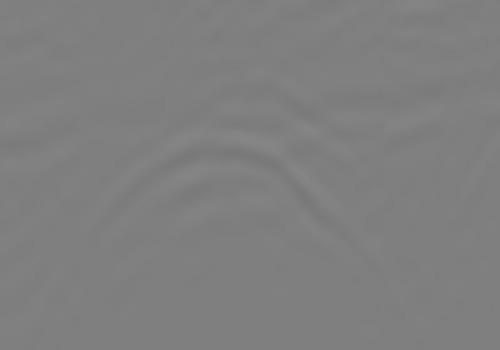Hyperbola: (54, 106, 394, 317)
